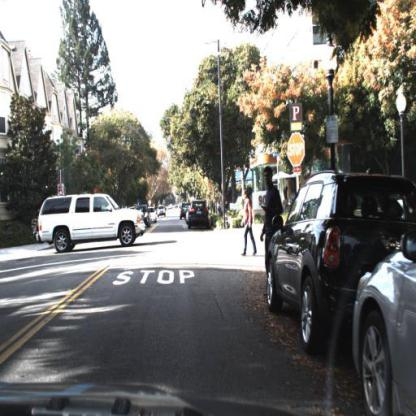car: (266, 174, 410, 353), (35, 195, 147, 251), (187, 200, 210, 231)
pedestrian: (261, 166, 281, 303), (241, 188, 258, 256)
